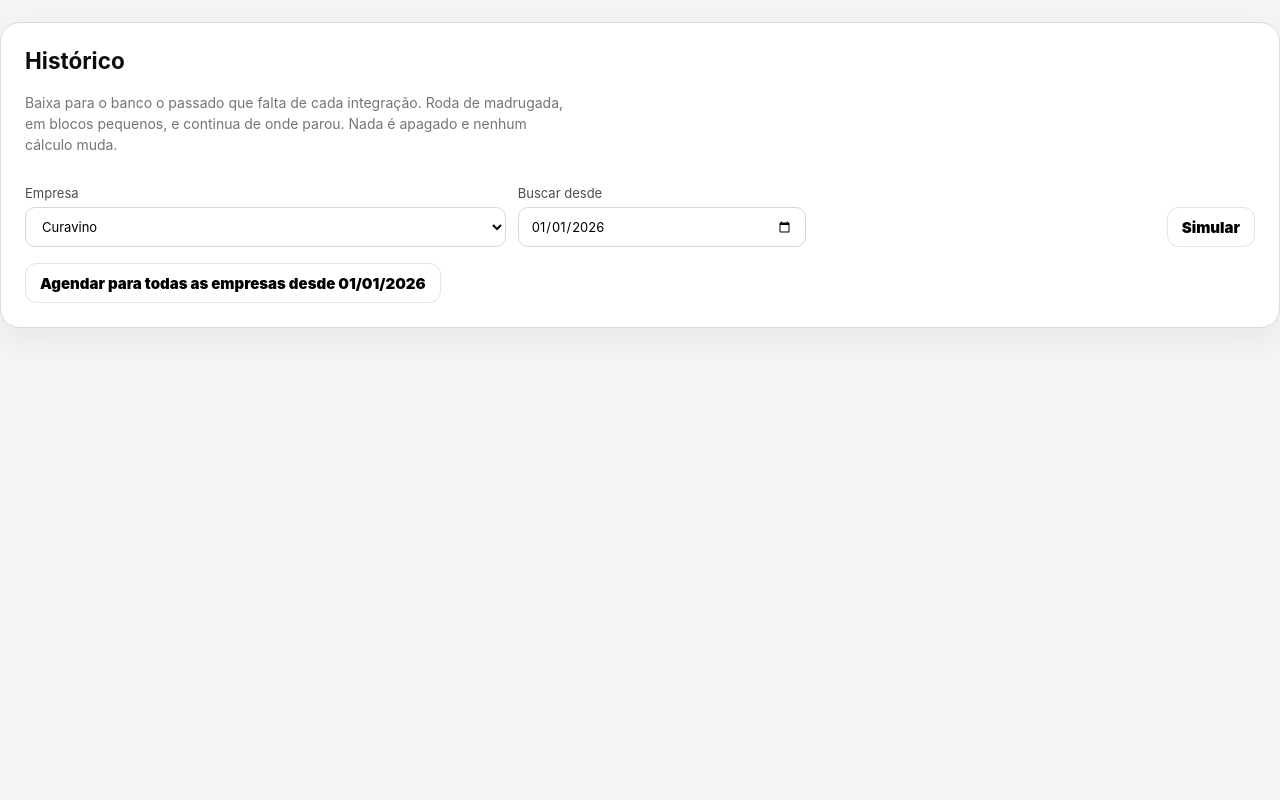
Test case: HistoryBackfillPanel › simula sem gravar e só agenda depois de confirmar
Submit the form, box [25,185,1255,247]
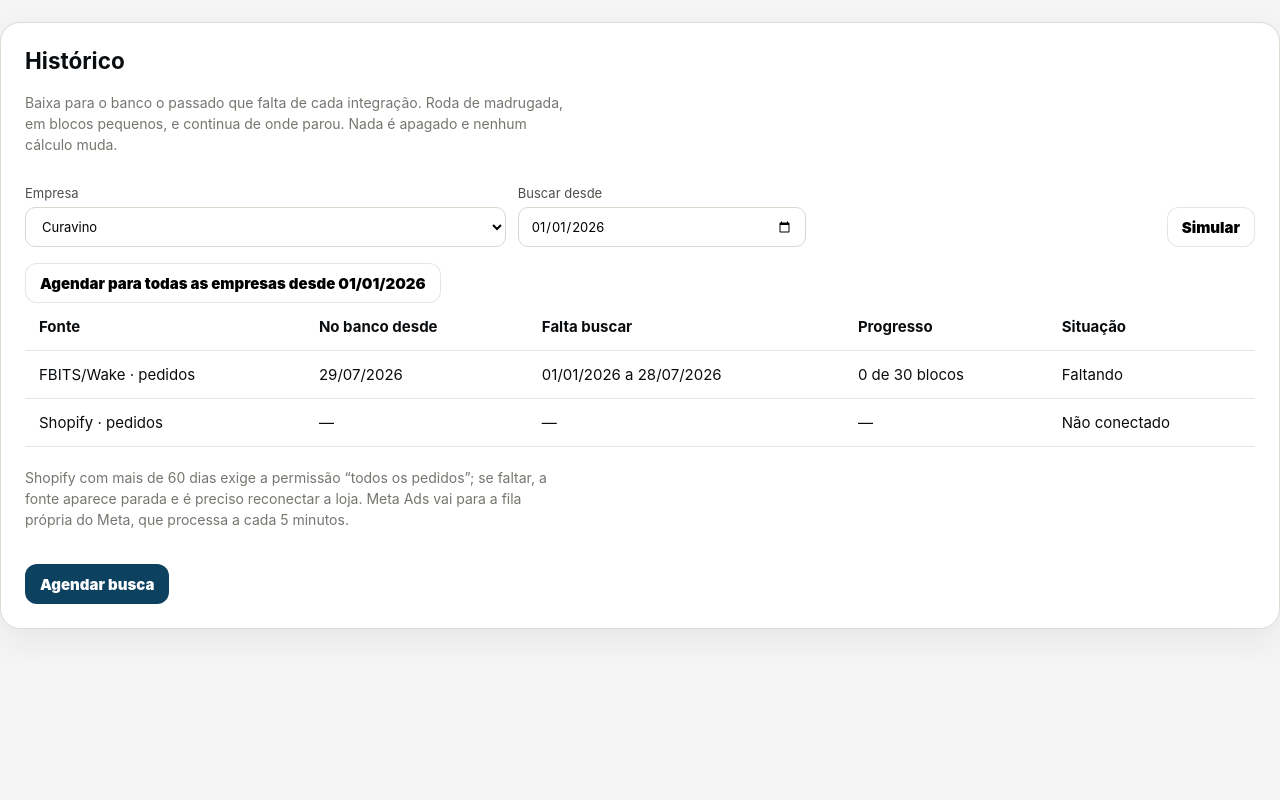
Now the text "01/01/2026 a 28/07/2026" is shown, box [528,350,844,398]
Now the text "0 de 30 blocos" is shown, box [844,350,1048,398]
Now the text "Não conectado" is shown, box [1048,398,1255,446]
Click the button "Agendar busca": x=97, y=584 [25,564,169,604]
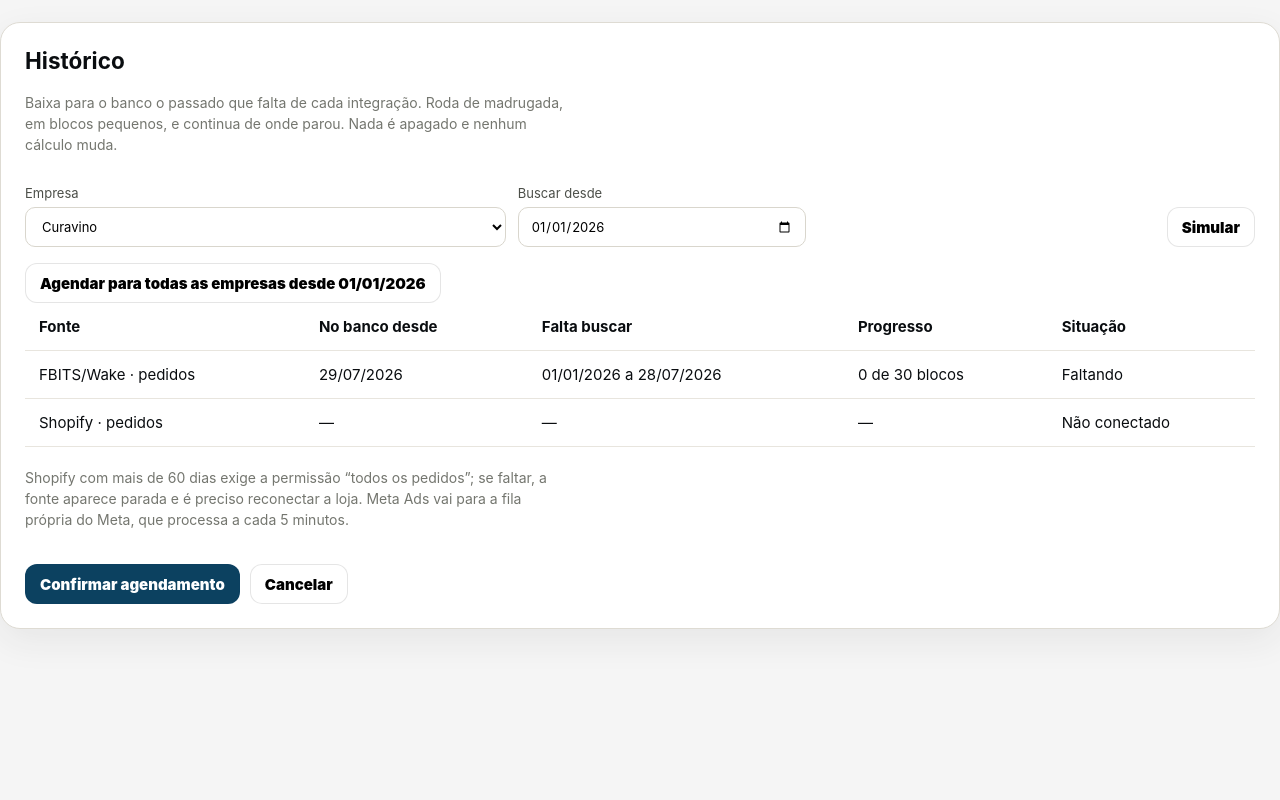
Click the button "Confirmar agendamento": x=132, y=584 [25,564,240,604]
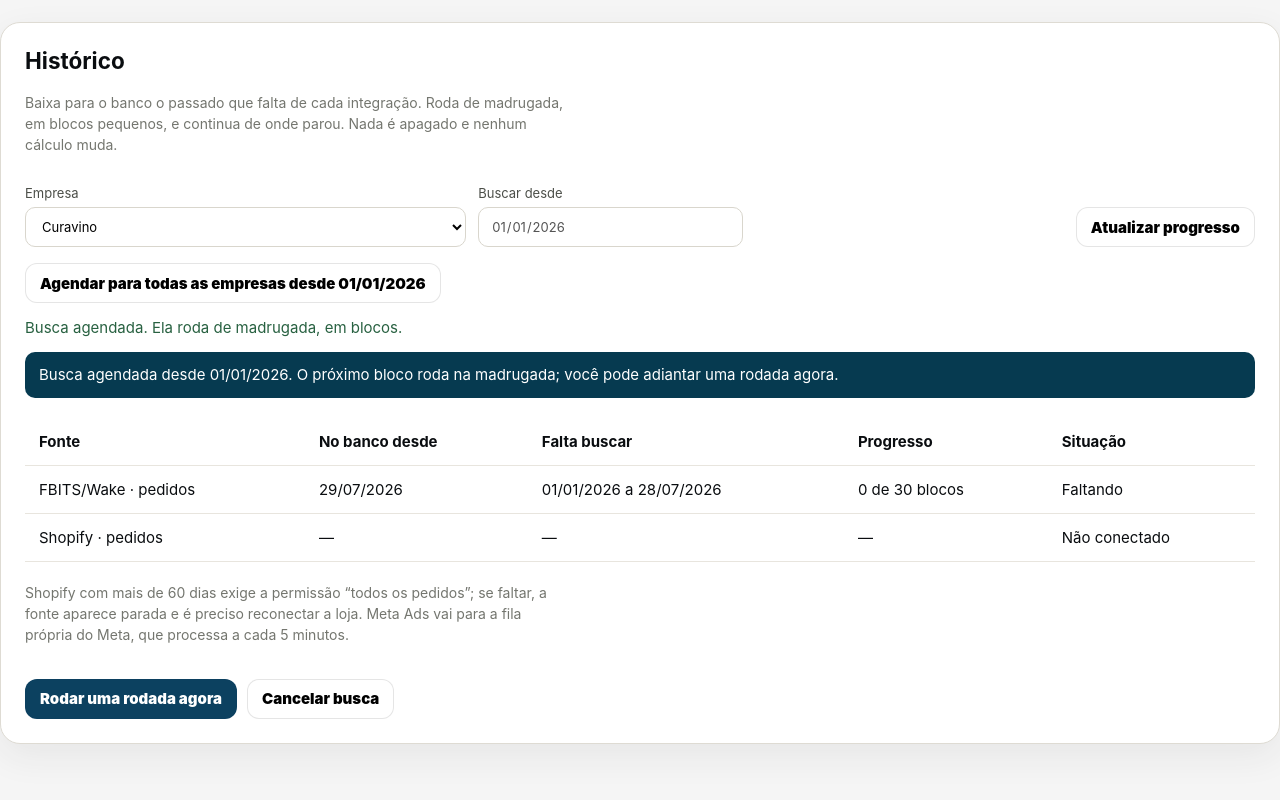
Now the text "Rodar uma rodada agora" is shown, box [25,679,237,719]
